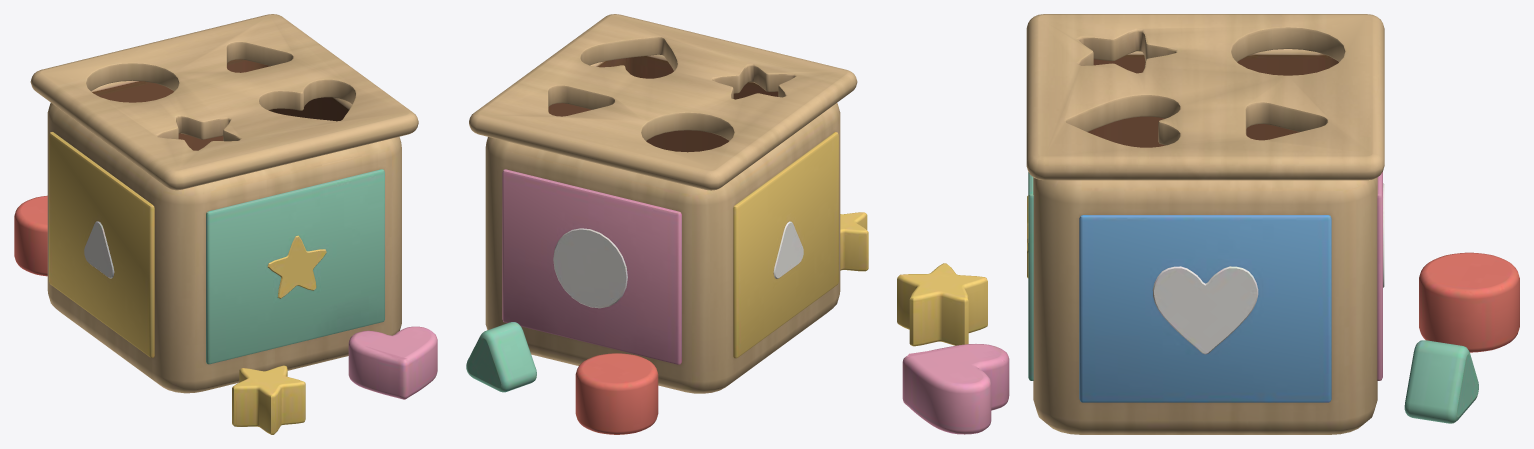
File: clasificador.glb
3 views of the same model, side by side, from view 1: azimuth 30°, elevation 25°; view 2: azimuth 150°, elevation 25°; view 3: azimuth 270°, elevation 25° (orthographic). The views are drawn at different scales.
Parts seen in each view (by area): view 1: shape-sorter_body; view 2: shape-sorter_body; view 3: shape-sorter_body.
Boxes of the visible parts, left/top/right/bottom form: shape-sorter_body: left=14, top=14, right=437, bottom=434; shape-sorter_body: left=466, top=14, right=868, bottom=434; shape-sorter_body: left=897, top=14, right=1519, bottom=434.
Bounding box in the file's own units: 0.156 × 0.137 × 0.2714.
Materials: 2 (2 with a texture image).
